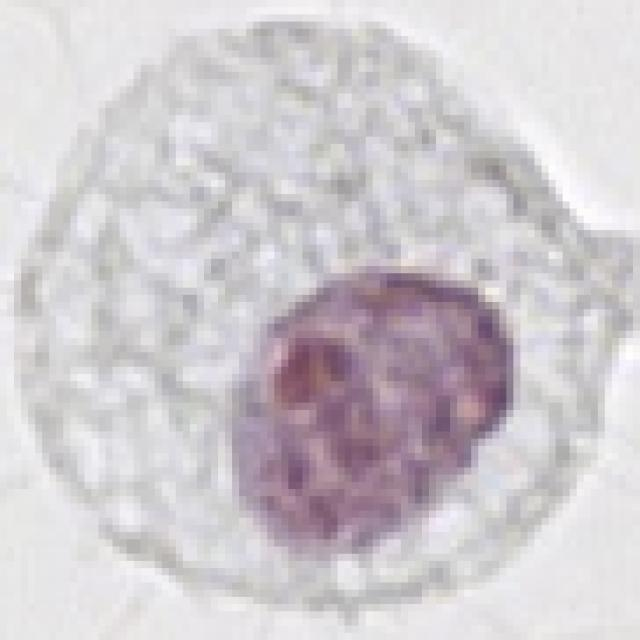nucleus: (163, 192, 566, 610)
